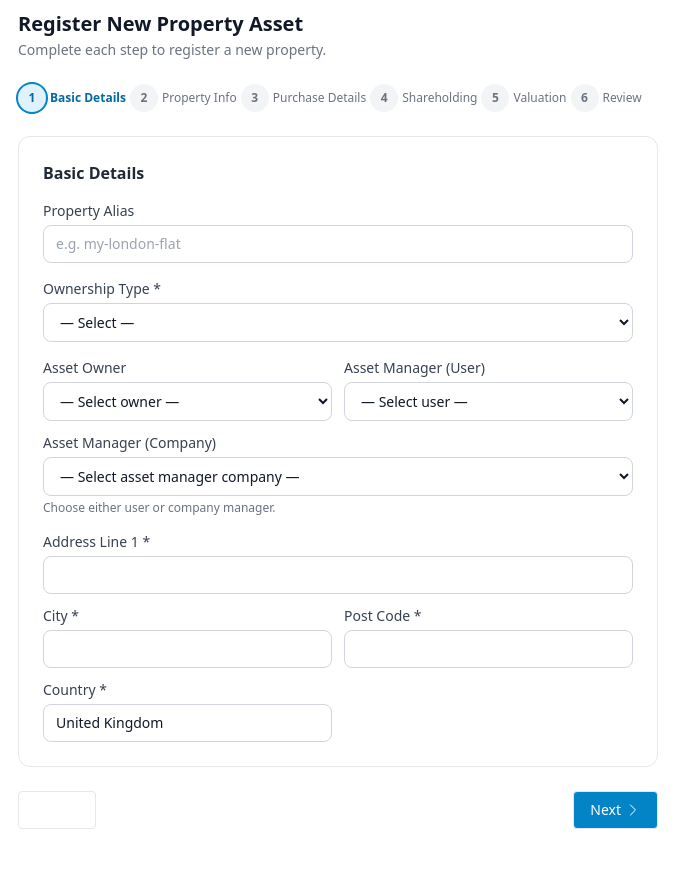
Test: RegisterAssetWizard › validates alias format
Step 1. Type "bad alias!" into the field with placeholder "e.g. my-london-flat" → [338, 244], box [43,225,633,263]
Step 2. Select "Sole Owner" in the dropdown labelled "Ownership Type *" → [338, 322], box [43,303,633,342]
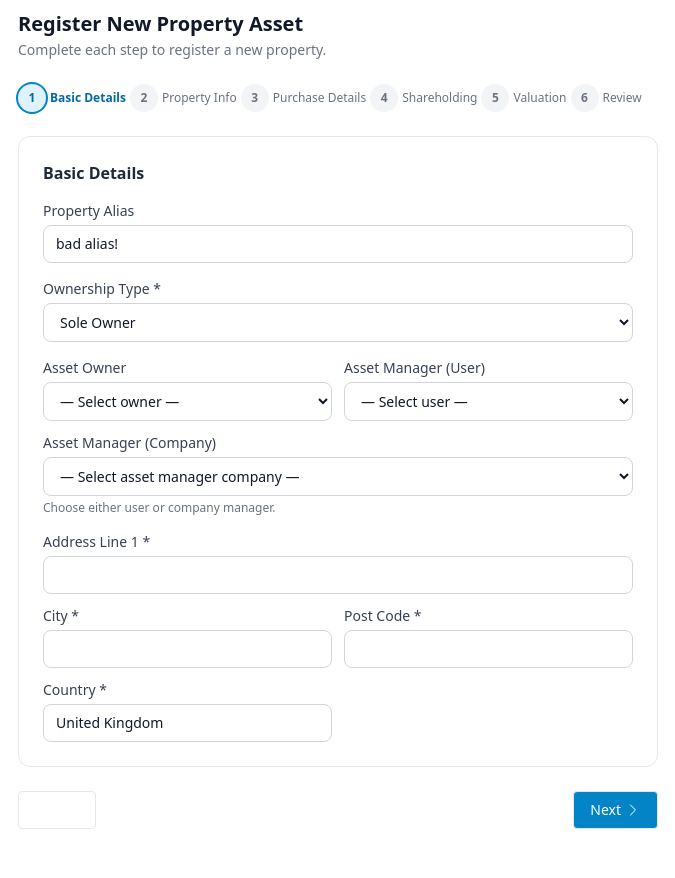
Step 3. Type "10 Test St" into the field labelled "Address Line 1 *" → [338, 575], box [43,556,633,594]
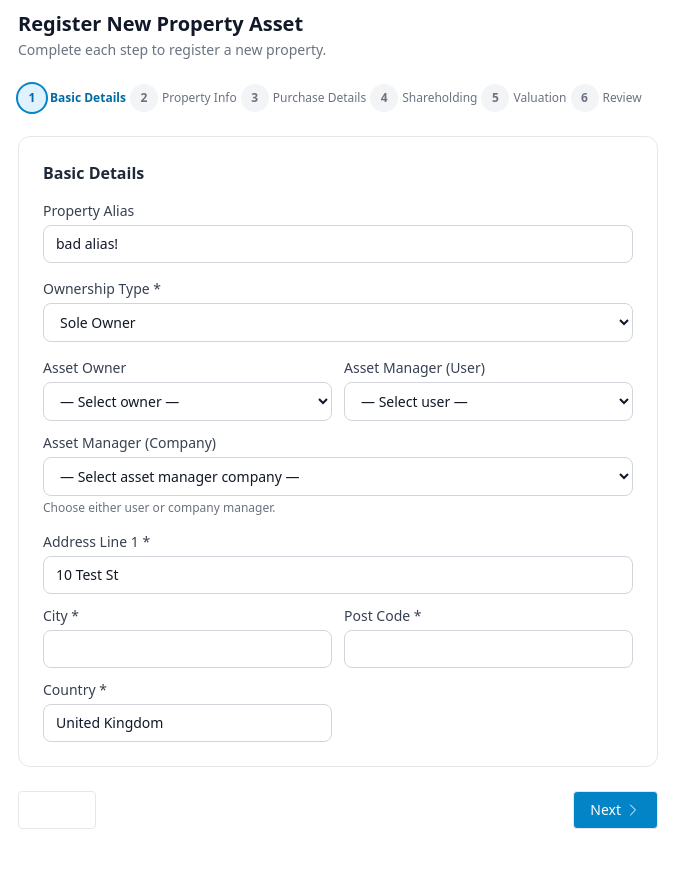
Step 4. Type "London" into the field labelled "City *" → [188, 649], box [43,630,332,668]
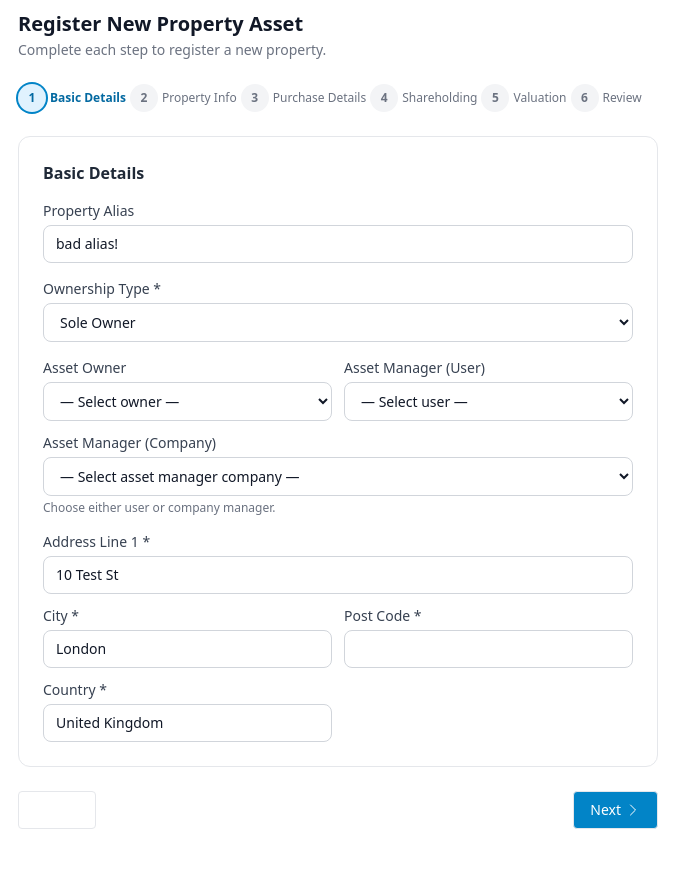
Step 5. Type "SW1A 2AA" into the field labelled "Post Code *" → [488, 649], box [344,630,633,668]
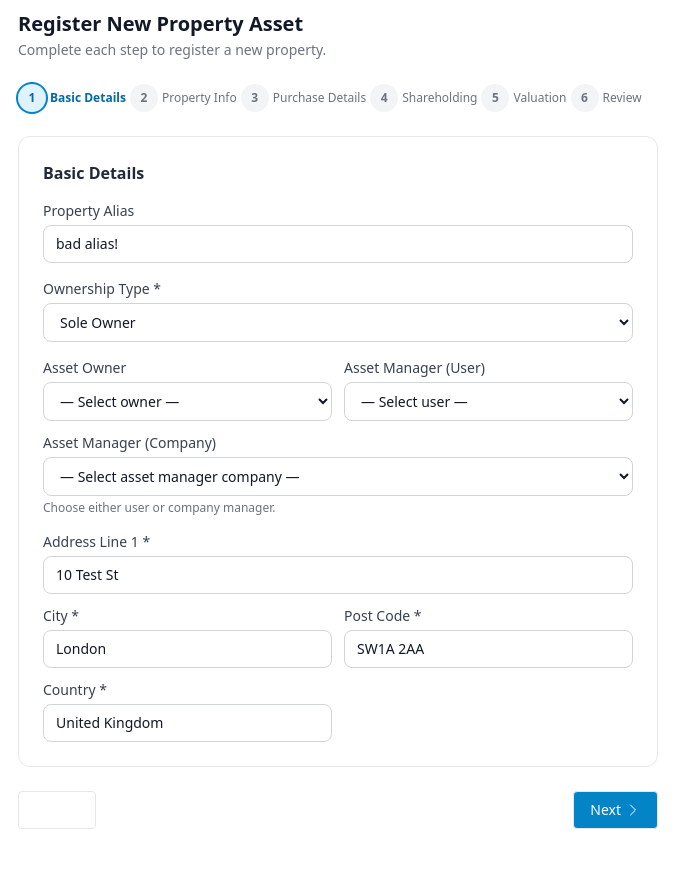
Step 6. Replace the text in the field labelled "Country *" with "UK" → [188, 723], box [43,704,332,742]
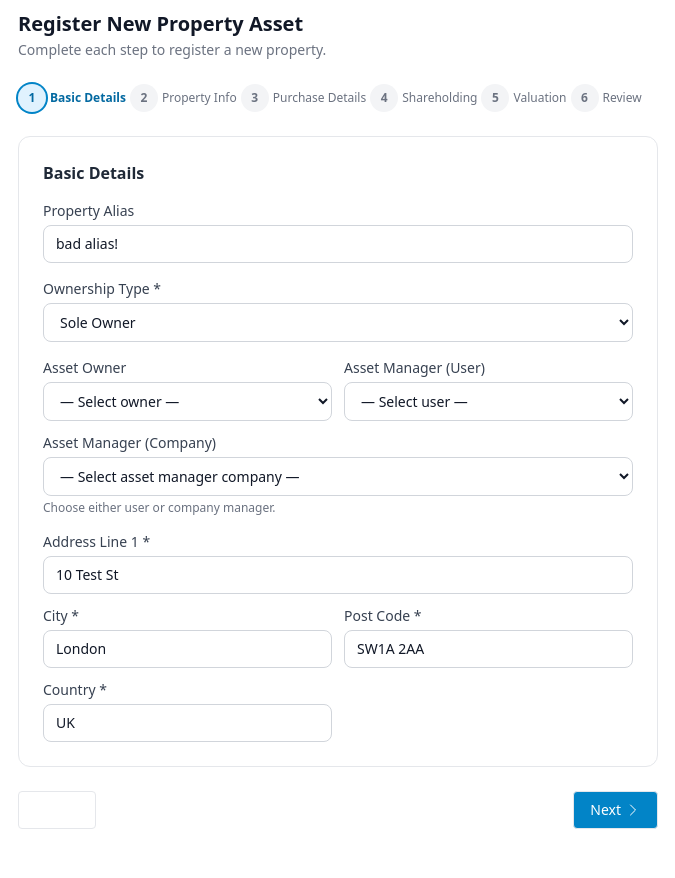
Step 7. Click the button "Next" → [616, 810], box [573,791,658,829]
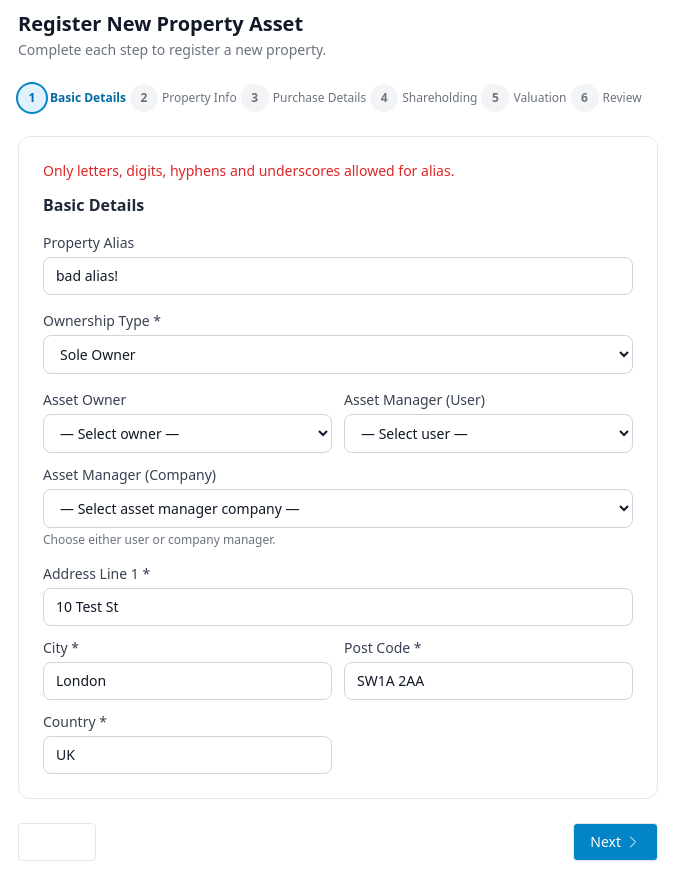
Expected: the text "Only letters, digits" is shown, [43,161,454,180]
